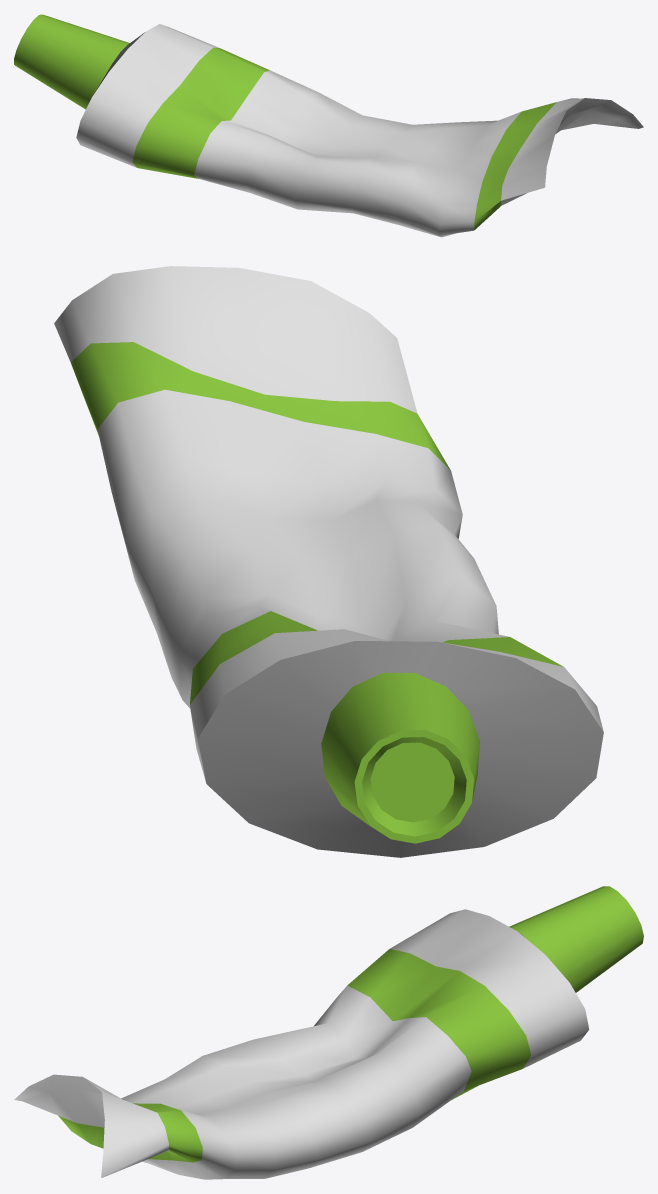
The model's file is paintTube1.fbx.
The picture shows the model from 3 angles, top to bottom: view 1: azimuth 30°, elevation 25°; view 2: azimuth 150°, elevation 25°; view 3: azimuth 270°, elevation 25°; orthographic projection. The views are drawn at different scales.
Parts seen in each view (by area): view 1: Circle.008; view 2: Circle.008; view 3: Circle.008.
Boxes of the visible parts, x1,y1,x2,y2 form: Circle.008: (14,14,643,237); Circle.008: (54,266,603,857); Circle.008: (14,886,643,1179).
Size of the model in its own units: 2.81 by 0.7893 by 3.05.
